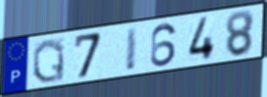4: (186, 15, 216, 62)
6: (149, 20, 178, 68)
7: (73, 31, 103, 80)
8: (224, 8, 256, 58)
I: (124, 25, 140, 73)
Q: (31, 37, 66, 84)
